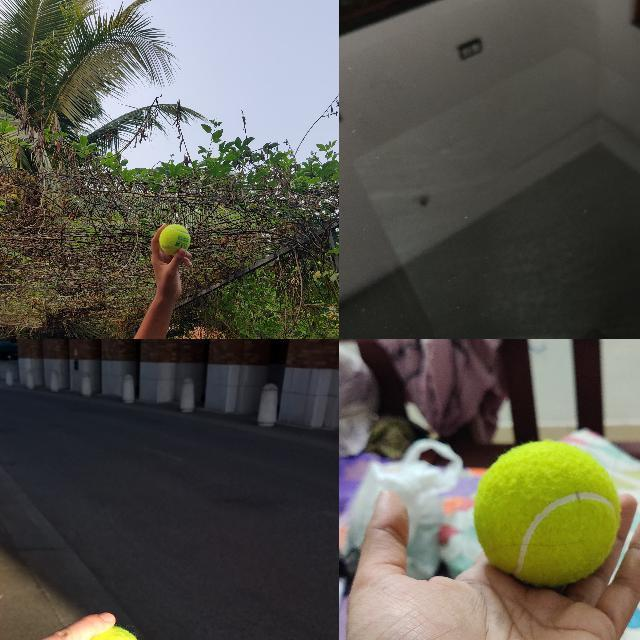tennis-ball: (472, 438, 622, 588), (159, 224, 191, 256)
